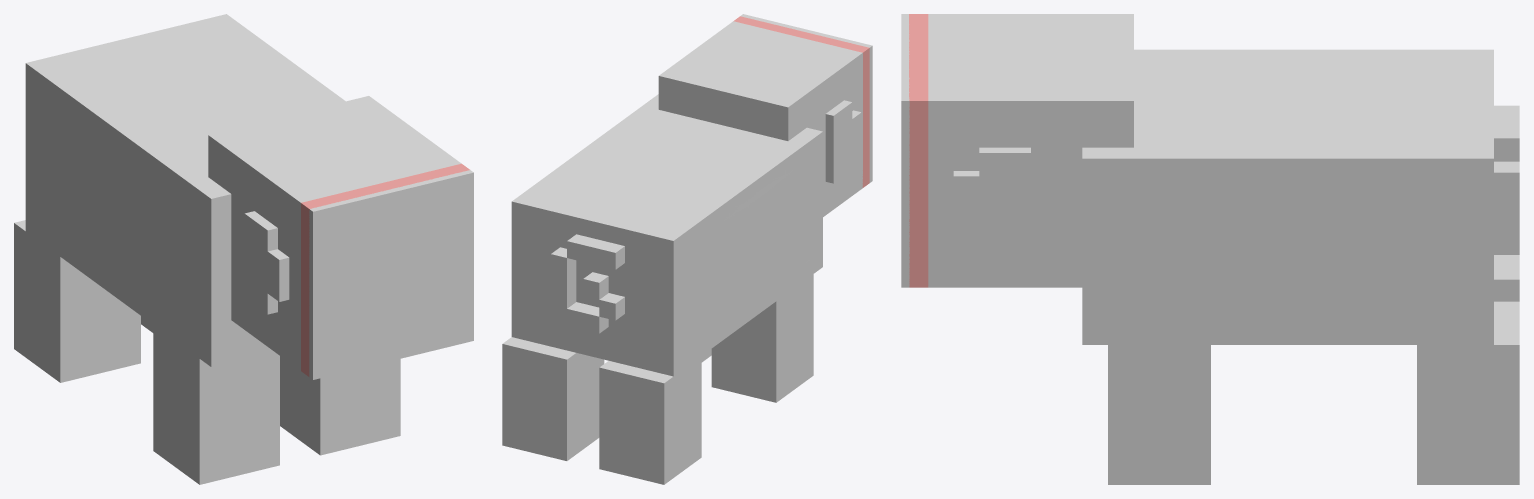
Rendered from Pig.fbx.
3 views of the same model, side by side, from view 1: azimuth 30°, elevation 25°; view 2: azimuth 150°, elevation 25°; view 3: azimuth 270°, elevation 25° (orthographic). The views are drawn at different scales.
Parts seen in each view (by area): view 1: pig.Body, Cube.001, pig.Head, pig.Leg-FR, pig.Leg-BR, pig.Leg-FL, Cube.002; view 2: pig.Body, pig.Head, pig.Leg-BR, pig.Leg-BL, pig.Leg-FR, Cube.002, Cube.001; view 3: pig.Body, pig.Head, pig.Leg-BL, pig.Leg-FL, Cube.002, Cube.001, pig.Leg-BR.
Part boxes in pixels (left/top/right/bottom): pig.Body: left=25, top=14, right=345, bottom=366; Cube.001: left=309, top=170, right=473, bottom=379; pig.Head: left=208, top=96, right=461, bottom=370; pig.Leg-FR: left=153, top=325, right=279, bottom=484; pig.Leg-BR: left=14, top=220, right=140, bottom=382; pig.Leg-FL: left=280, top=356, right=400, bottom=455; Cube.002: left=301, top=163, right=469, bottom=376; pig.Body: left=511, top=94, right=822, bottom=376; pig.Head: left=658, top=21, right=862, bottom=216; pig.Leg-BR: left=599, top=356, right=701, bottom=484; pig.Leg-BL: left=502, top=337, right=604, bottom=460; pig.Leg-FR: left=711, top=274, right=813, bottom=402; Cube.002: left=733, top=16, right=869, bottom=187; Cube.001: left=740, top=14, right=872, bottom=182; pig.Body: left=1082, top=49, right=1519, bottom=344; pig.Head: left=928, top=14, right=1133, bottom=287; pig.Leg-BL: left=1417, top=301, right=1519, bottom=484; pig.Leg-FL: left=1108, top=345, right=1210, bottom=484; Cube.002: left=909, top=14, right=928, bottom=287; Cube.001: left=901, top=14, right=909, bottom=287; pig.Leg-BR: left=1494, top=255, right=1519, bottom=301.
Bounding box in the file's own units: 61.66 × 98.66 × 148.
